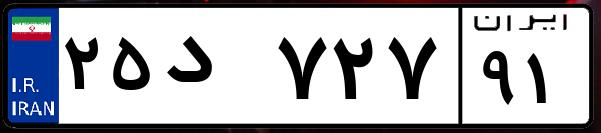1: (525, 38, 570, 115)
2: (330, 28, 385, 110), (57, 26, 110, 100)
5: (110, 28, 158, 98)
7: (270, 28, 330, 110), (385, 28, 445, 110)
9: (475, 38, 525, 113)
د: (158, 20, 270, 120)
